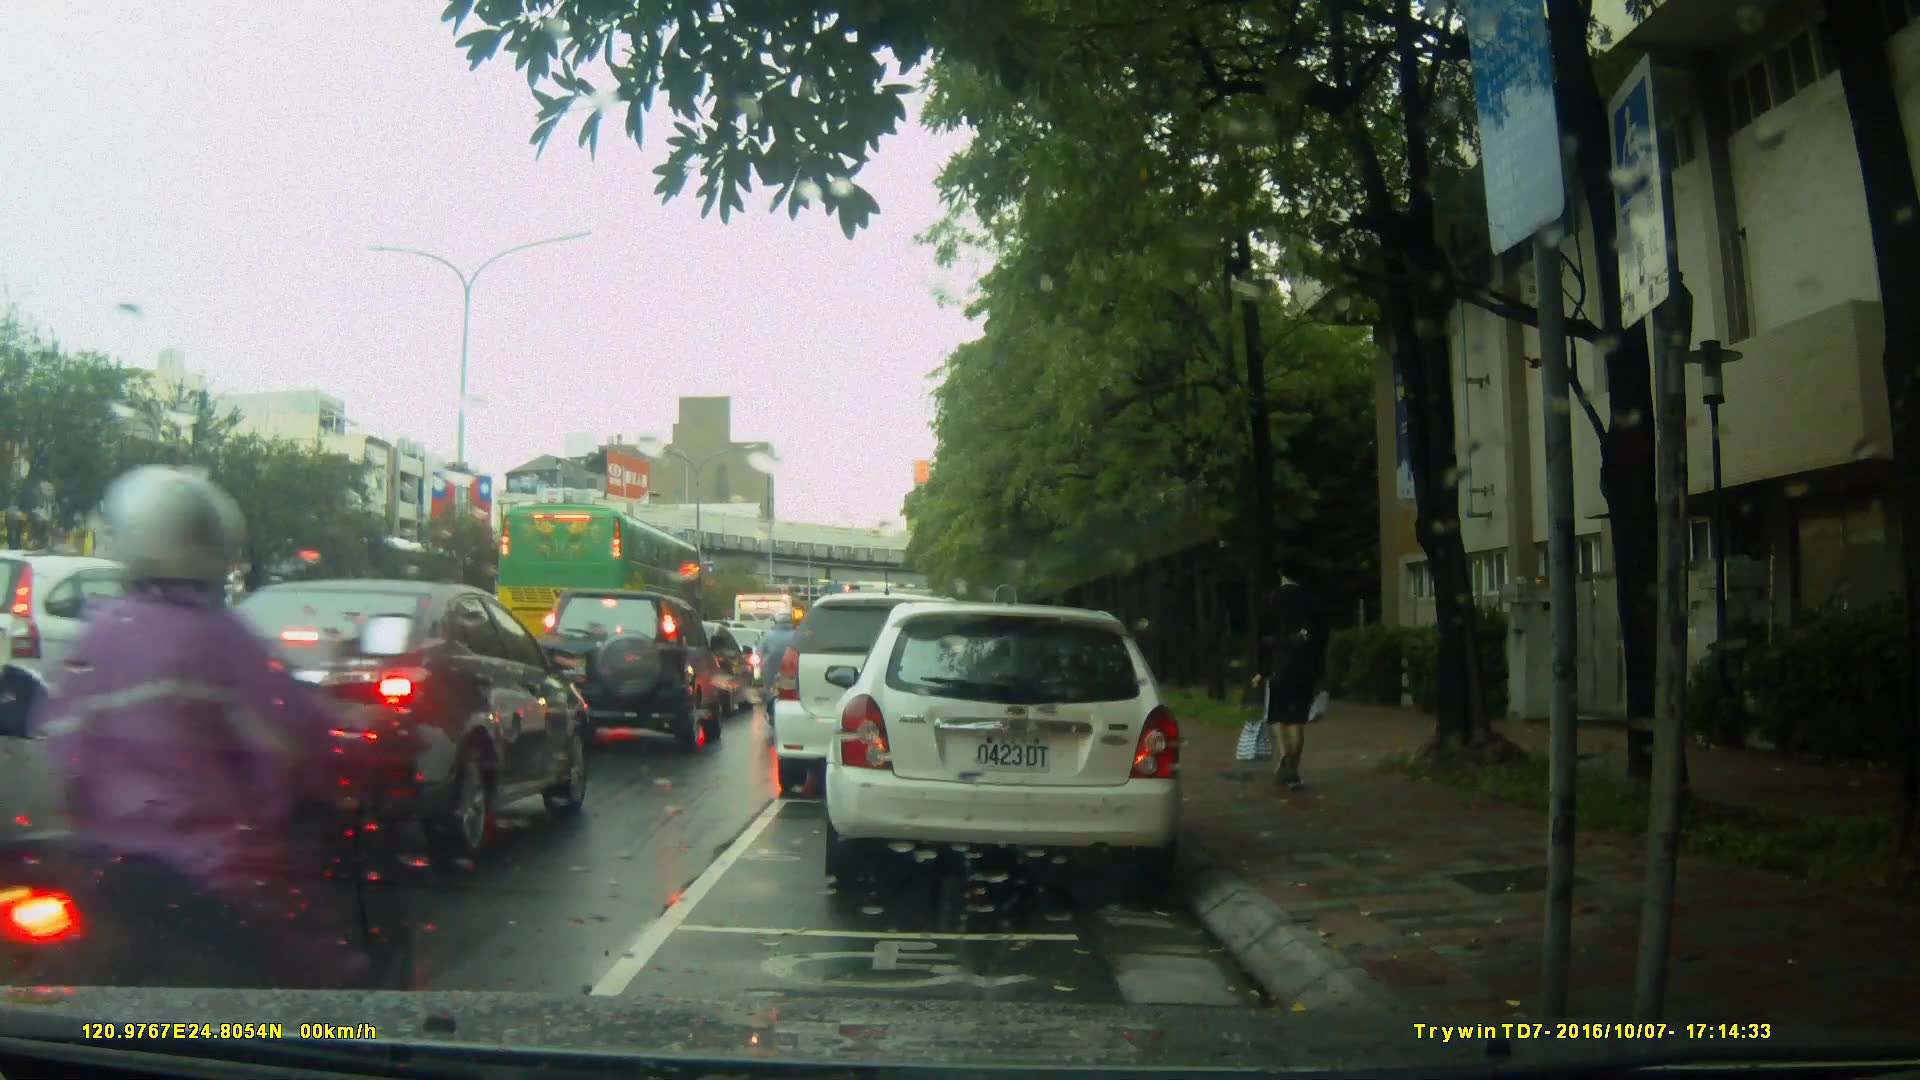pedestrian: (1234, 552, 1340, 802)
rider: (1, 465, 398, 1052), (760, 607, 806, 729)
vehicle: (142, 575, 591, 870), (831, 592, 1196, 897), (770, 592, 999, 799), (6, 555, 237, 748), (493, 500, 707, 652), (532, 585, 728, 750)
